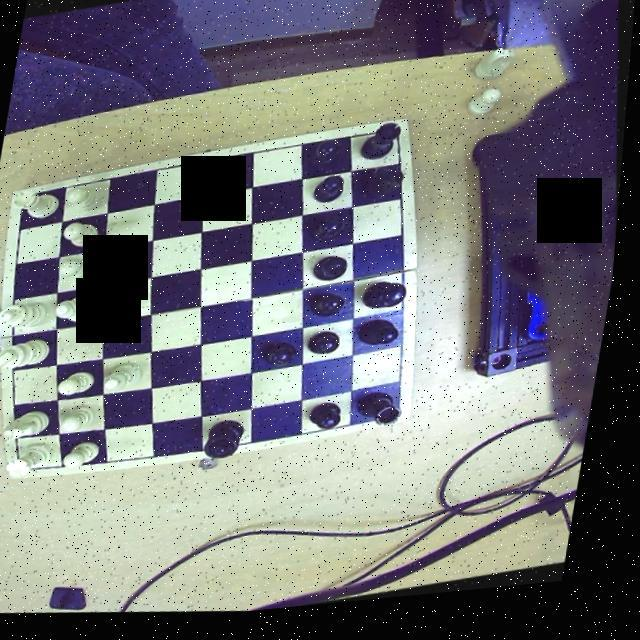chess-table-corners: (387, 406, 418, 434), (384, 126, 414, 154), (13, 184, 46, 208), (14, 454, 41, 478)
